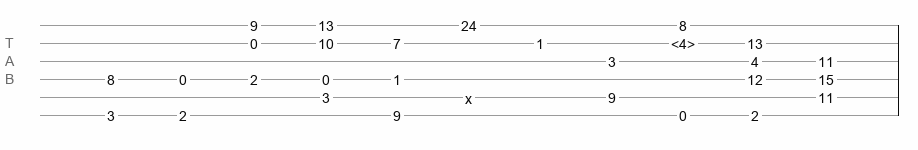0: (179, 72, 187, 82), (250, 36, 258, 46), (322, 72, 330, 82), (679, 108, 687, 118)
1: (393, 72, 401, 82), (536, 36, 544, 46)
10: (318, 36, 334, 46)
11: (818, 90, 834, 100), (818, 54, 834, 64)
12: (747, 72, 763, 82)
13: (318, 18, 334, 28), (747, 36, 763, 46)
15: (818, 72, 834, 82)
2: (179, 108, 187, 118), (250, 72, 258, 82), (751, 108, 759, 118)
24: (461, 18, 477, 28)
3: (107, 108, 115, 118), (322, 90, 330, 100), (608, 54, 616, 64)
4: (751, 54, 759, 64)
7: (393, 36, 401, 46)
8: (107, 72, 115, 82), (679, 18, 687, 28)
9: (250, 18, 258, 28), (393, 108, 401, 118), (608, 90, 616, 100)
harmonic: (671, 36, 695, 46)
x: (465, 91, 472, 99)
